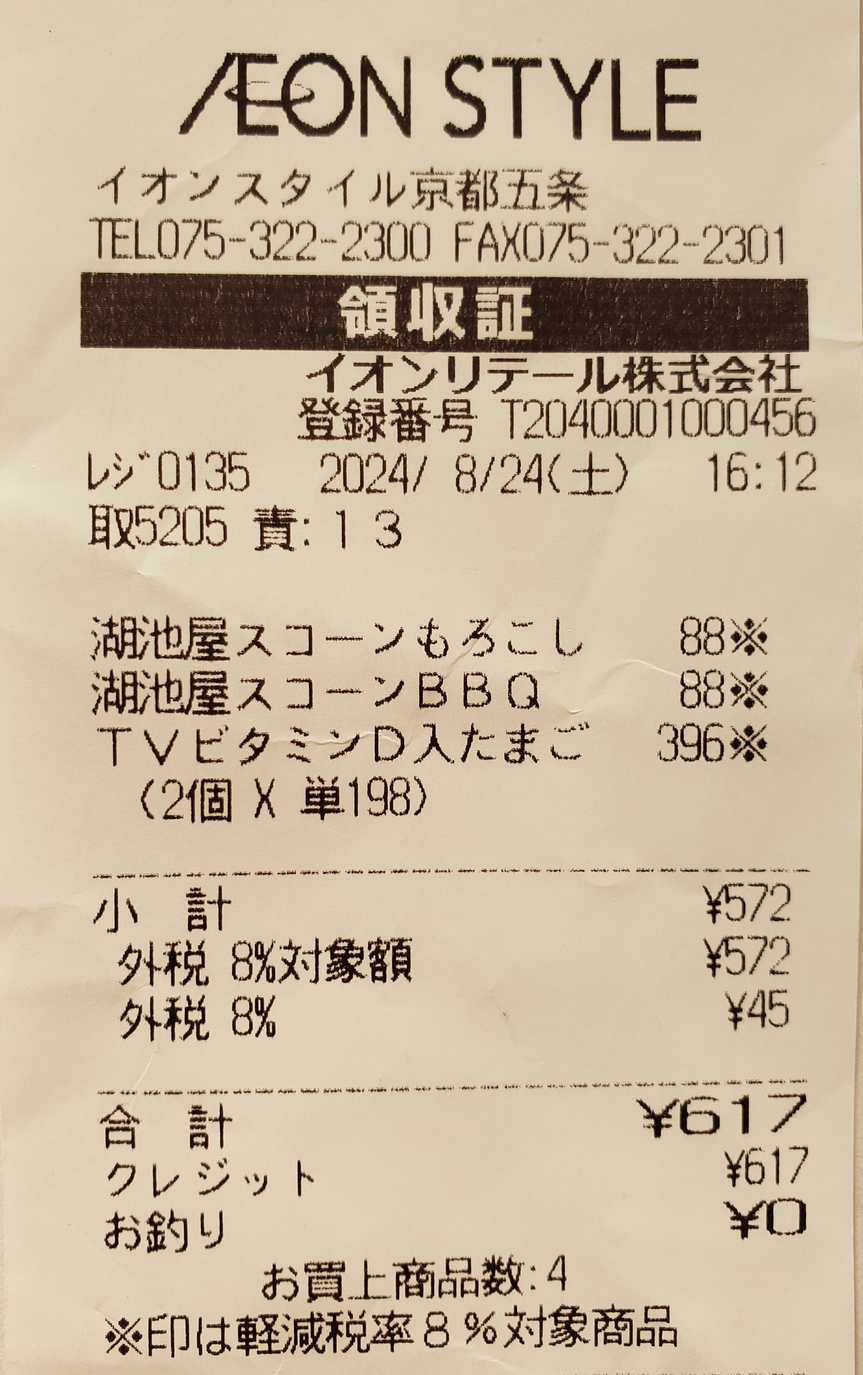Date: (317, 443, 552, 503)
Shopname: (165, 18, 720, 160)
Telnum: (153, 208, 436, 271)
Totalpay: (105, 1096, 825, 1147)
